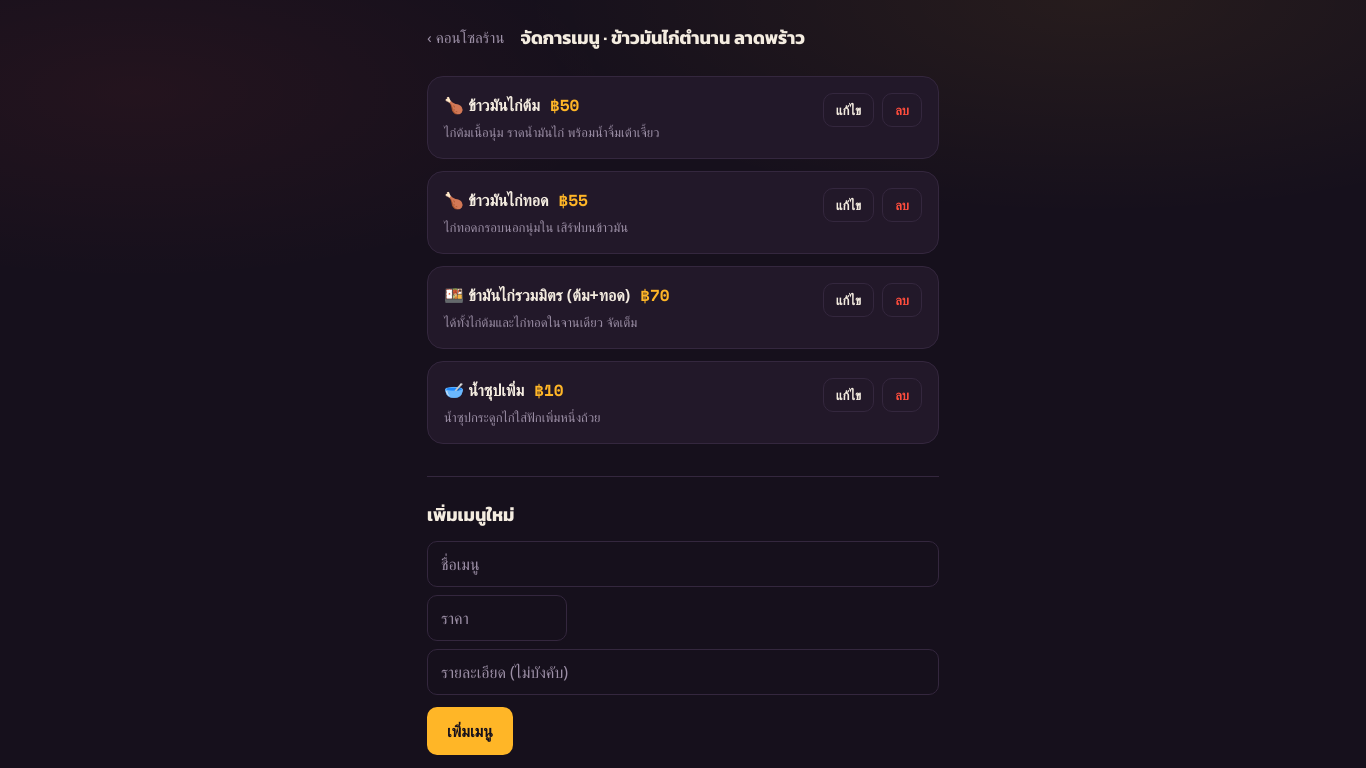
Test: MerchantMenu — จัดการเมนู (CRUD) › ลบเมนู → หายจากลิสต์
Expected: the text "🥣 น้ำซุปเพิ่ม ฿10" is shown, [444, 378, 564, 402]
Click the button with aria-label "ลบ น้ำซุปเพิ่ม" at (902, 395), box [882, 378, 922, 412]
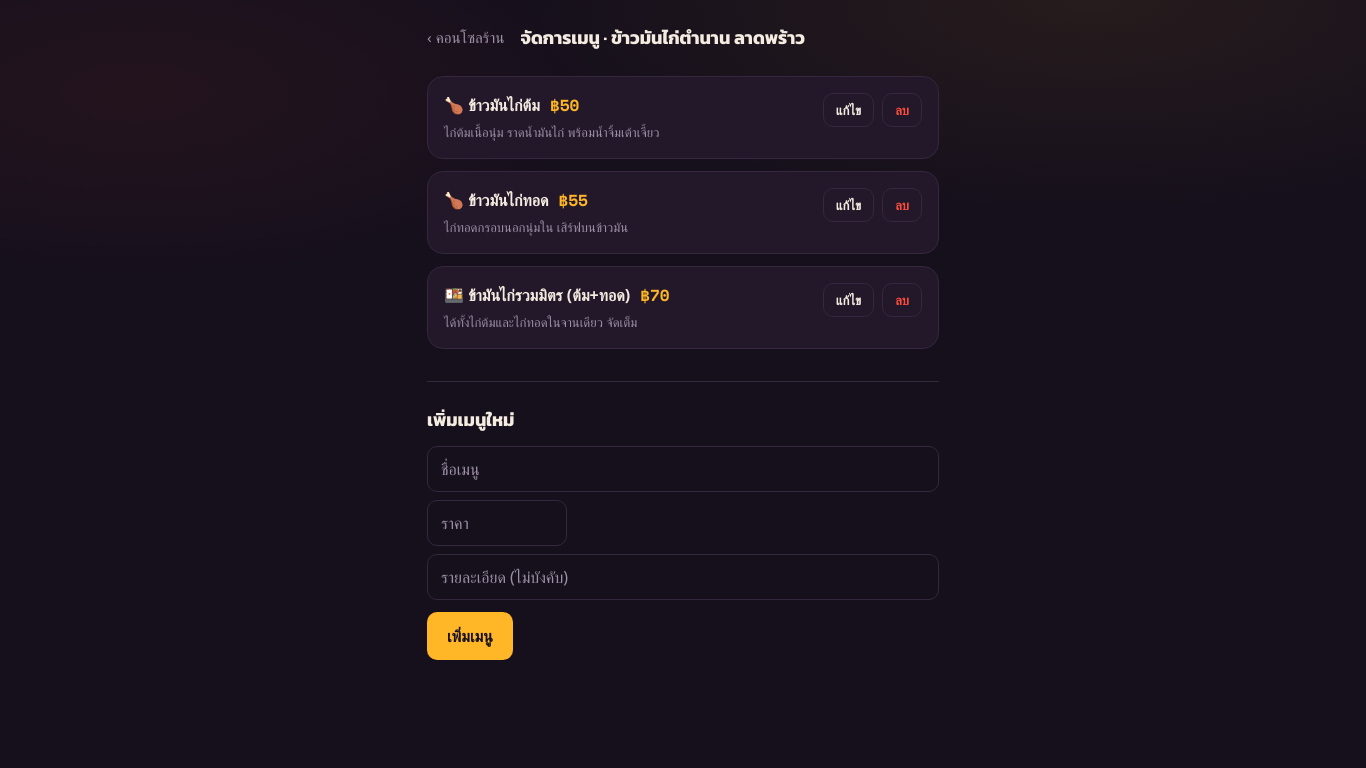
Now the text "น้ำซุปเพิ่ม" is gone
